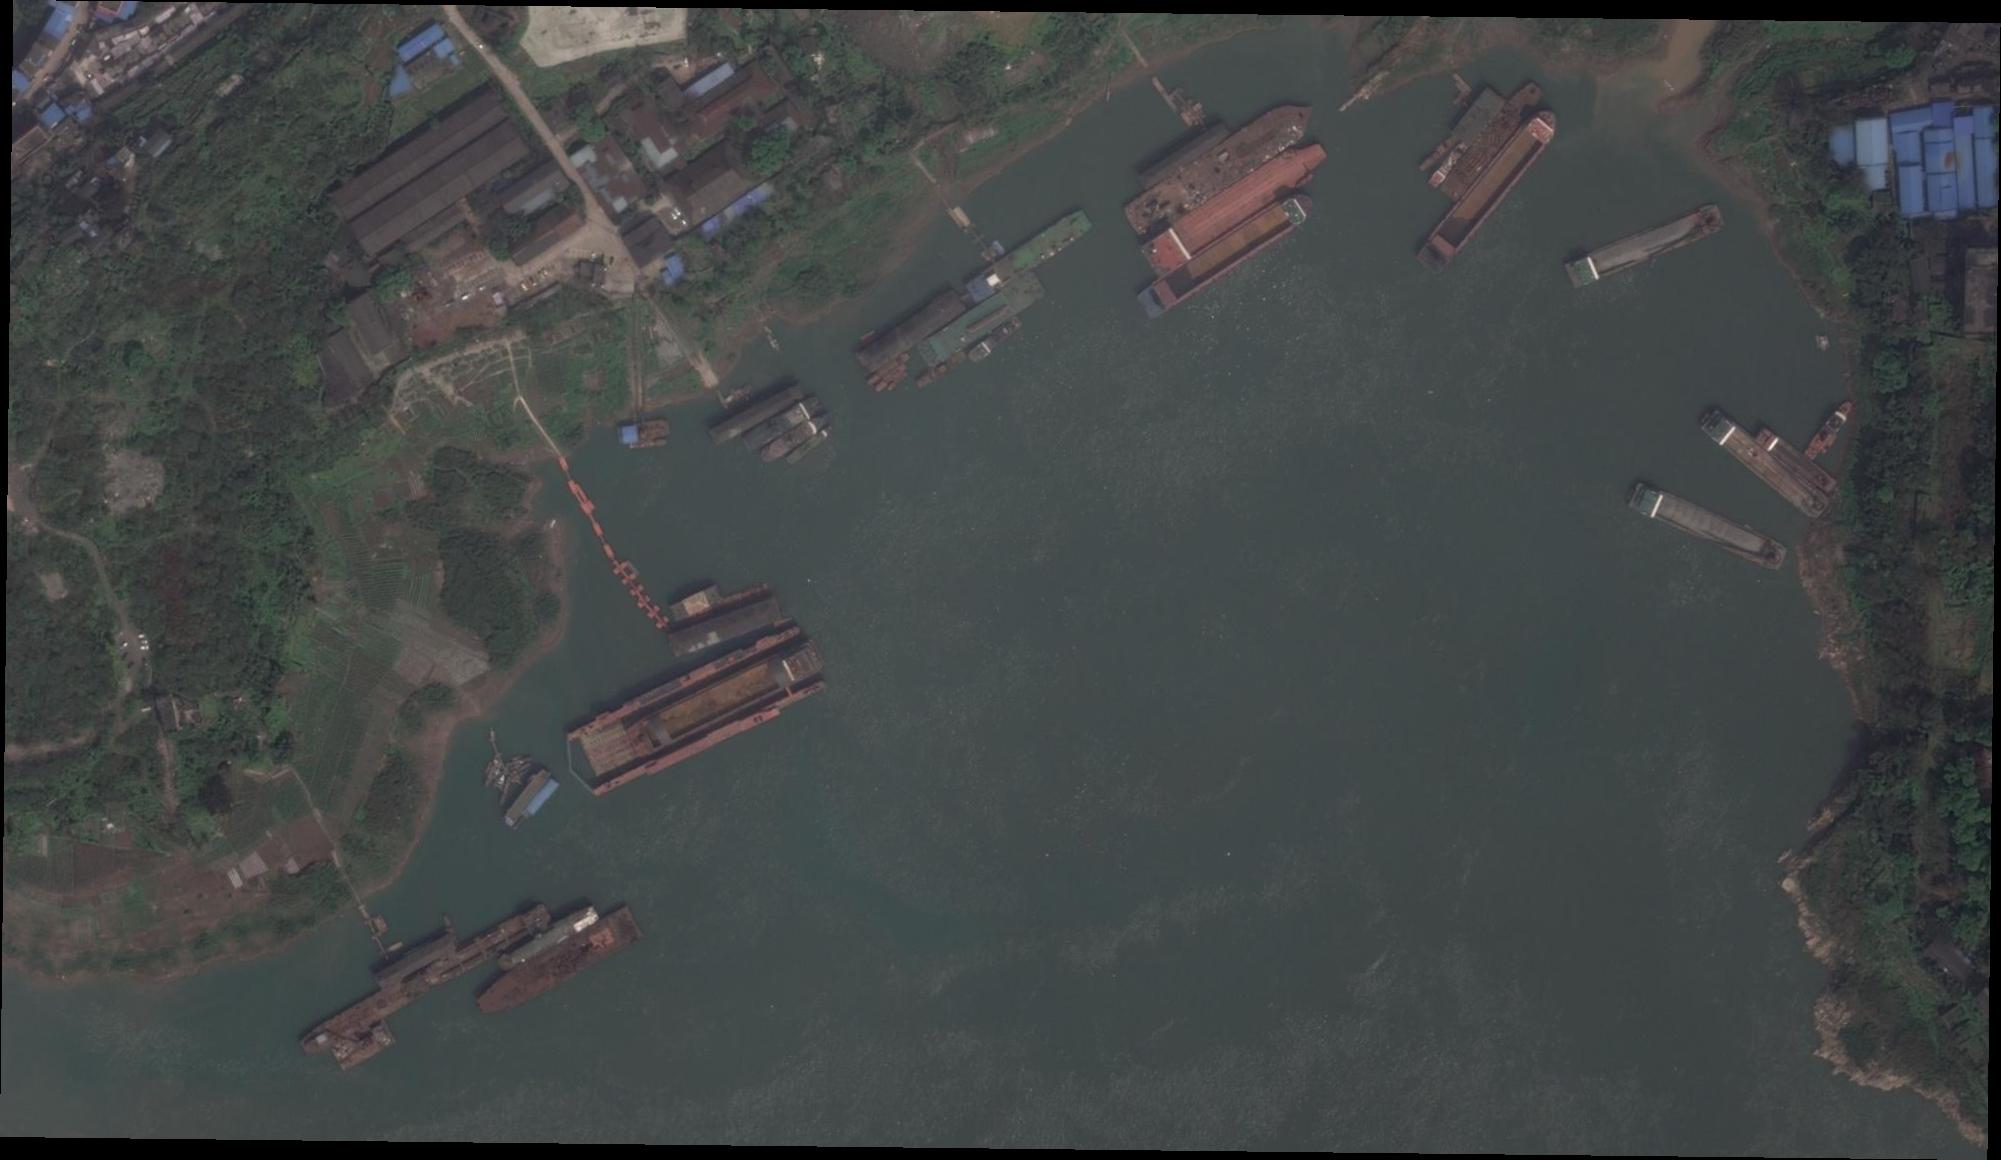ship: (1122, 94, 1314, 243), (1142, 136, 1330, 276), (627, 637, 828, 760), (1417, 108, 1564, 275), (1135, 191, 1318, 318), (475, 904, 644, 1018), (1700, 408, 1831, 520), (1629, 483, 1788, 573), (1566, 202, 1724, 288), (1442, 79, 1548, 202), (919, 275, 1048, 367), (969, 209, 1094, 302), (298, 972, 431, 1059), (423, 904, 554, 988), (860, 290, 966, 375), (500, 905, 601, 973), (711, 384, 805, 445), (1757, 426, 1838, 494), (744, 397, 822, 454), (762, 413, 831, 464), (1804, 399, 1853, 462), (971, 319, 1024, 365), (917, 350, 968, 391), (787, 427, 833, 466)
